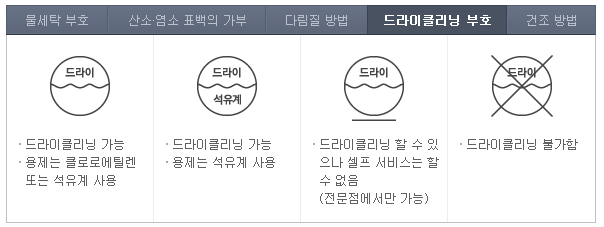do_not_dry_clean: (490, 54, 553, 117)
